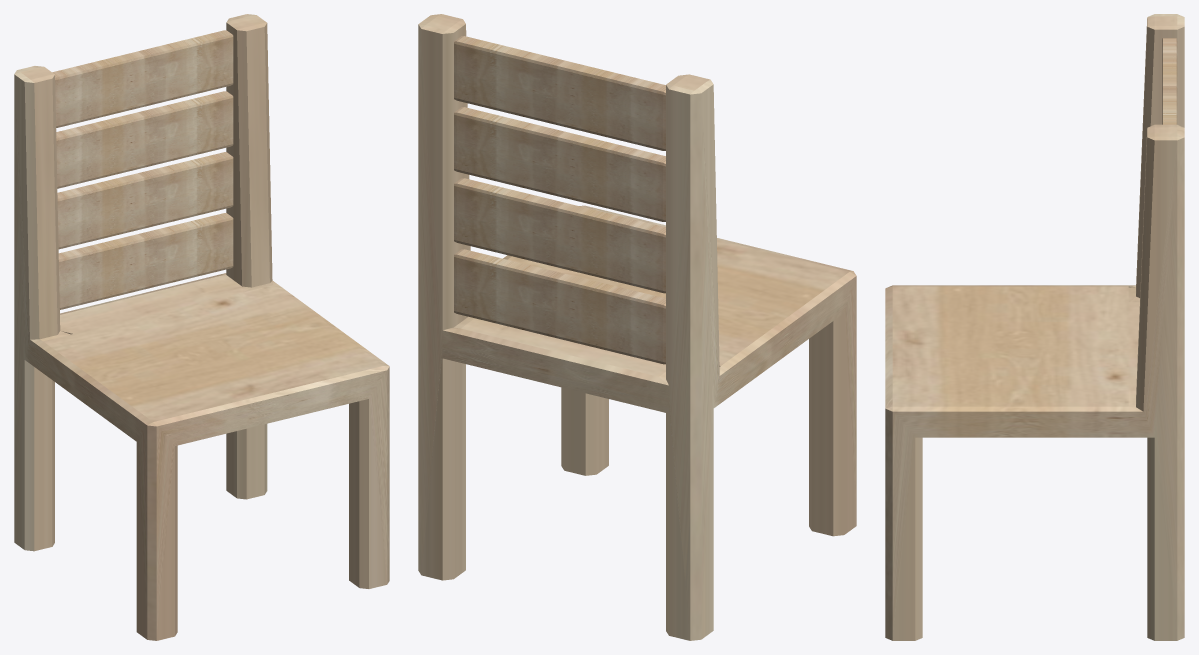
The model's file is silla.fbx.
3 renders of one model, left to right at view 1: azimuth 30°, elevation 25°; view 2: azimuth 150°, elevation 25°; view 3: azimuth 270°, elevation 25°, orthographic. The views are drawn at different scales.
Visible parts, largest first — view 1: Silla; view 2: Silla; view 3: Silla.
Boxes of the visible parts, <box> form: Silla: <box>14,14,389,640</box>; Silla: <box>418,14,856,640</box>; Silla: <box>885,14,1184,640</box>.
Bounding box in the file's own units: 150 × 278 × 150.
Materials: 1 (1 with a texture image).
